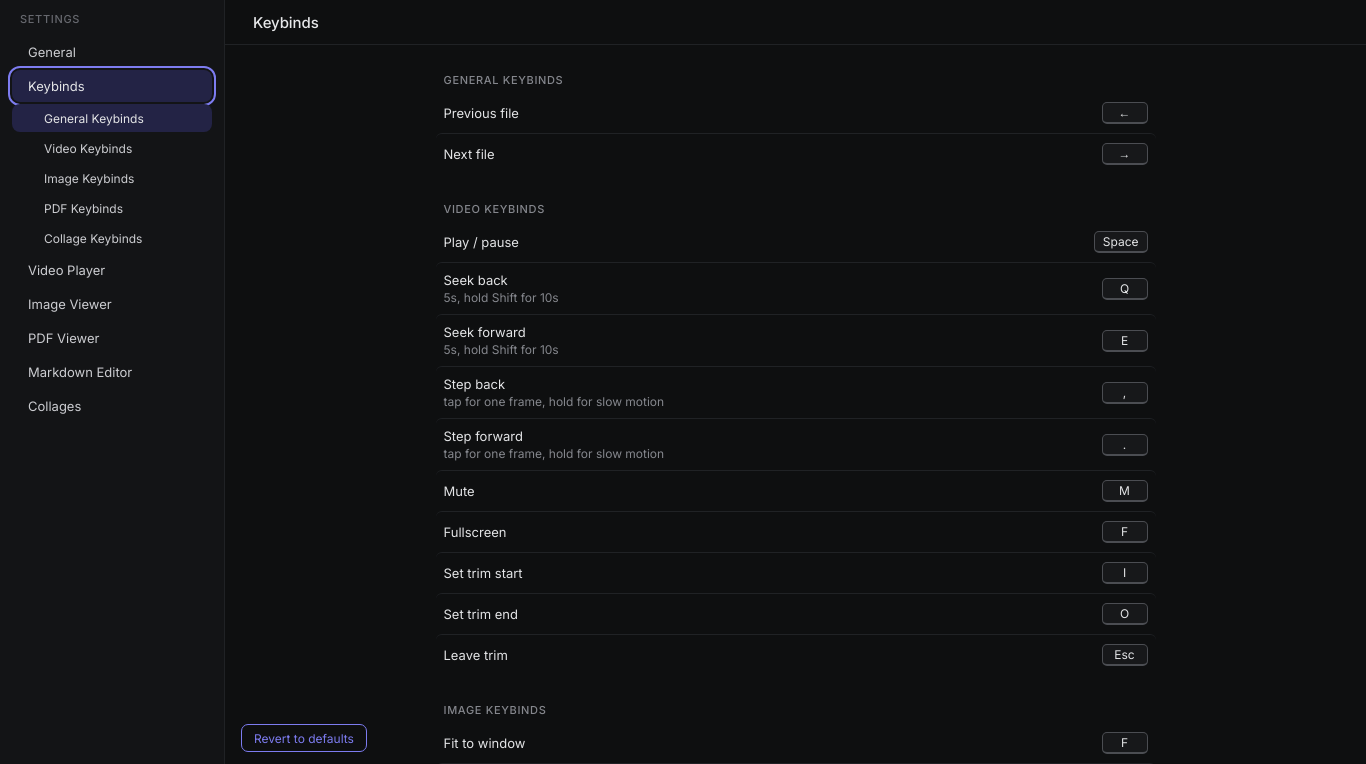
Test: KeybindsSettings › general keys clash with video's shift+seek
Click the button "Next file →": click(469, 154) [436,133,1156,174]
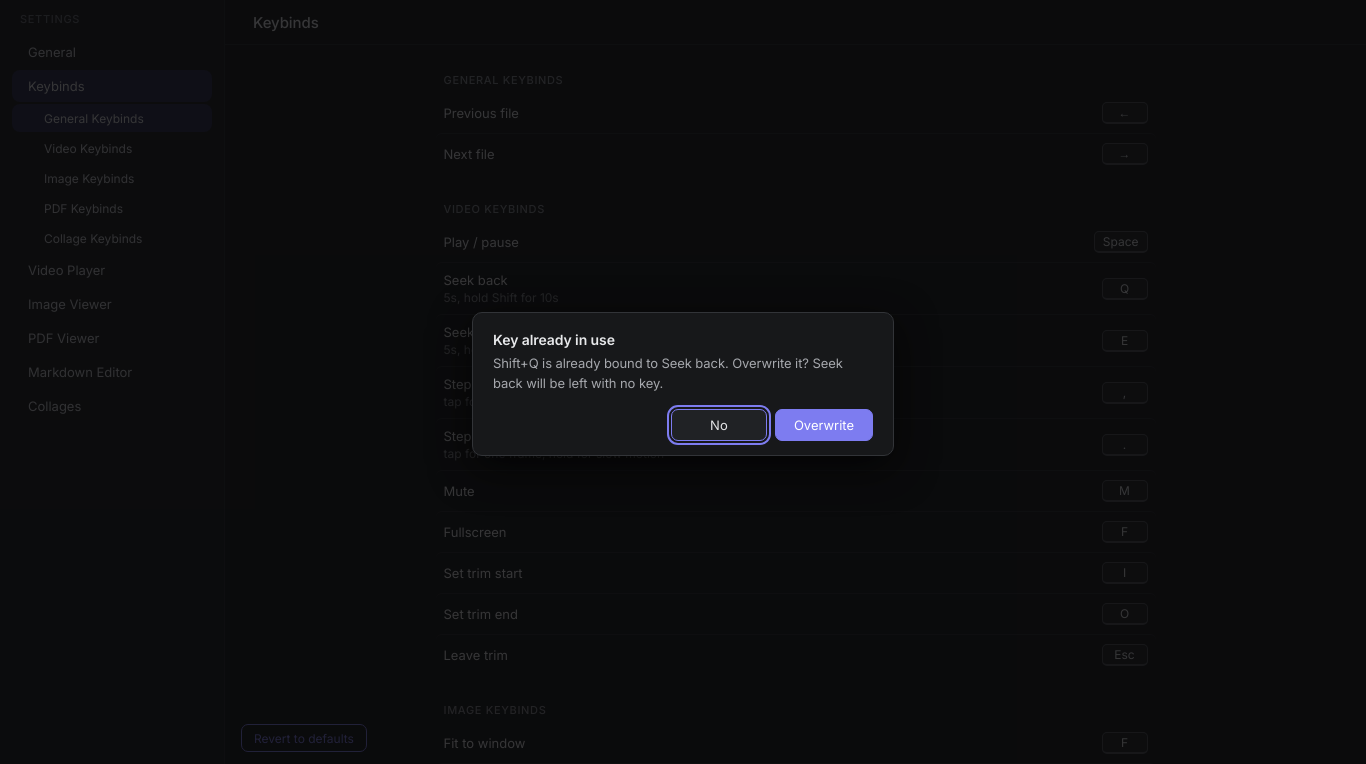
Check: the text with class "dialog-body" shows "Shift+Q is already bound to Seek back. Overwrite it? Seek back will be left with no key.", box [493,355,843,390]
